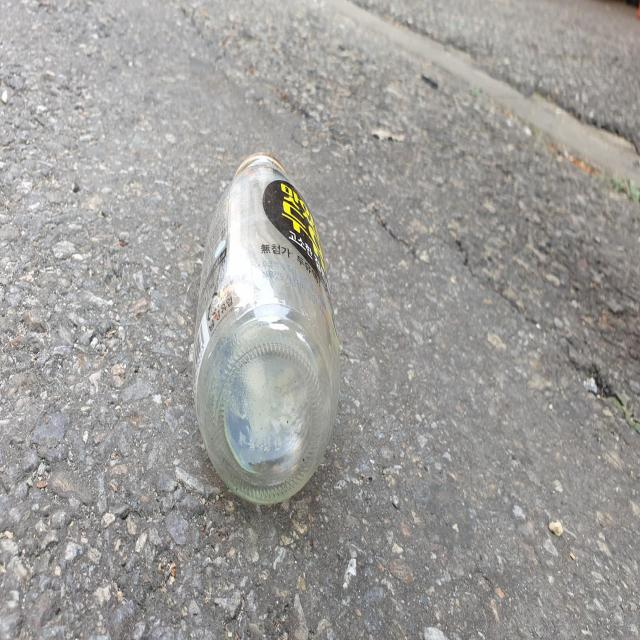glass: (192, 152, 340, 504)
